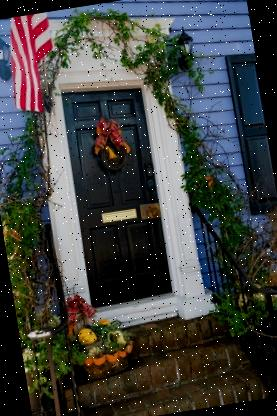door: (54, 70, 179, 310)
